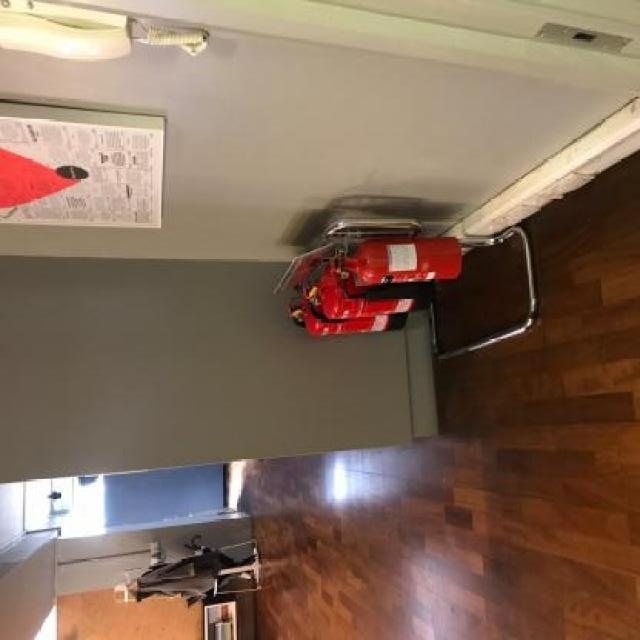fire extinguisher: (333, 236, 461, 301), (302, 266, 435, 323), (286, 289, 408, 337)
